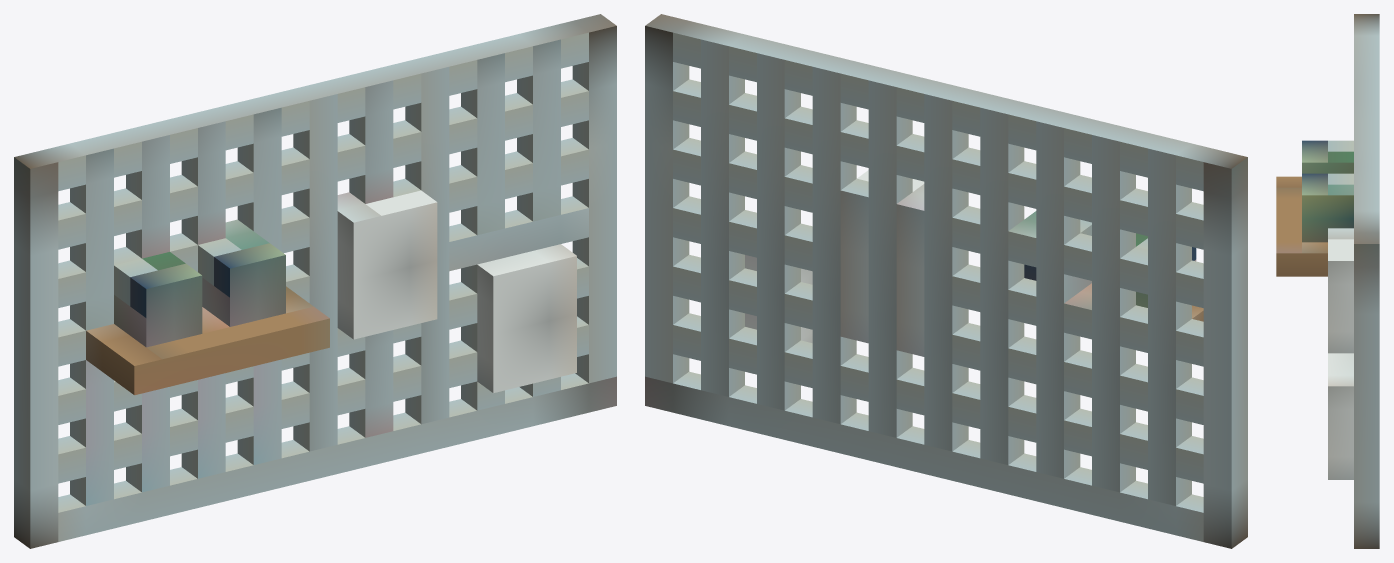
The model's file is DashBoard_00.obj.
3 views of the same model, side by side, from view 1: azimuth 30°, elevation 25°; view 2: azimuth 150°, elevation 25°; view 3: azimuth 270°, elevation 25° (orthographic). The views are drawn at different scales.
Visible parts, largest first — view 1: DashBoard_00; view 2: DashBoard_00; view 3: DashBoard_00.
Boxes of the visible parts, x1,y1,x2,y2 form: DashBoard_00: (14, 14, 616, 548); DashBoard_00: (645, 14, 1247, 548); DashBoard_00: (1276, 14, 1379, 548).
Bounding box in the file's own units: 1.05 × 0.65 × 0.2.
